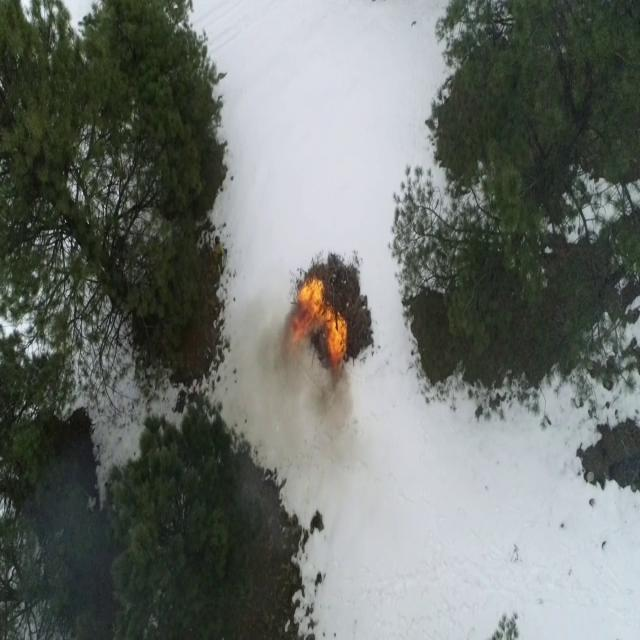fire: (293, 276, 347, 362)
